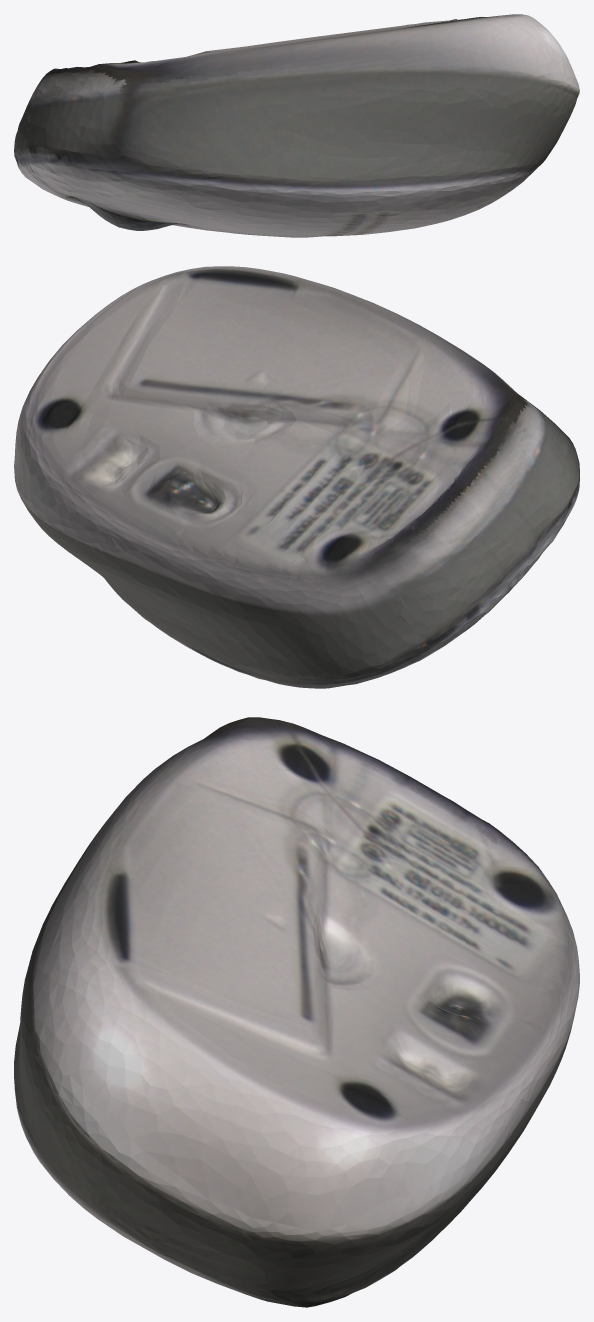
Rendered from export-middle.obj.
3 renders of one model, top to bottom at view 1: azimuth 30°, elevation 25°; view 2: azimuth 150°, elevation 25°; view 3: azimuth 270°, elevation 25°, orthographic. The views are drawn at different scales.
Bounding box in the file's own units: 91.93 × 45.44 × 61.33.
1 material, 1 textured.
